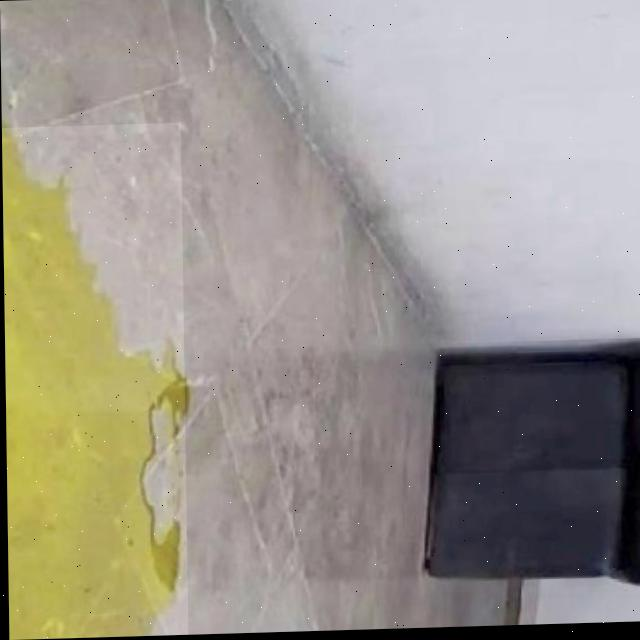spillage: (1, 127, 184, 640)
